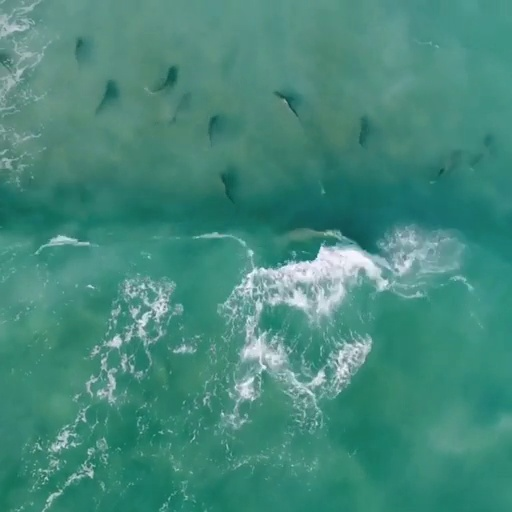shark: (271, 223, 352, 248)
